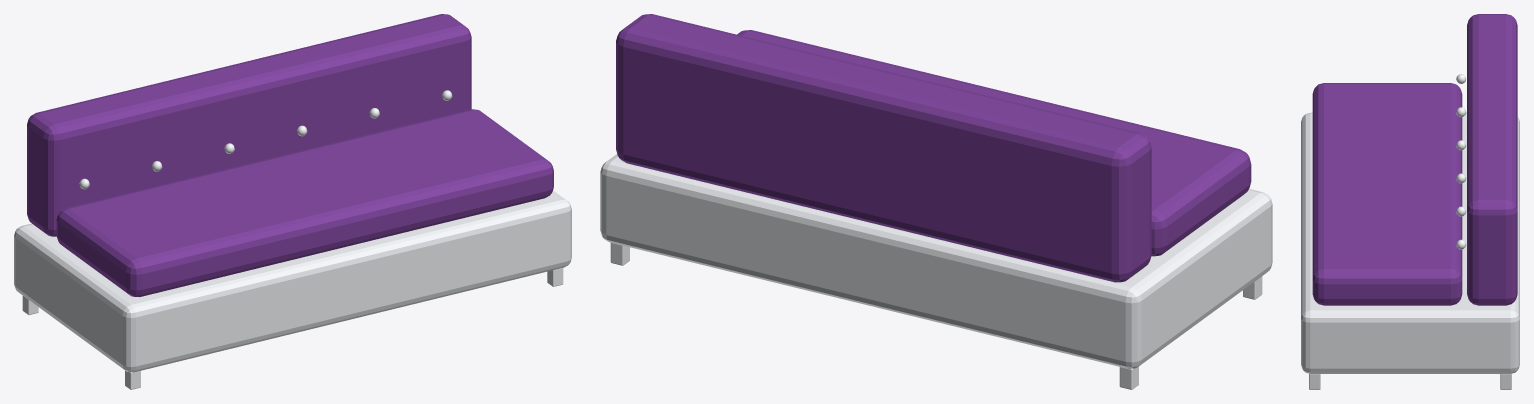
The model's file is sofa_tufted_chrome.glb.
3 renders of one model, left to right at view 1: azimuth 30°, elevation 25°; view 2: azimuth 150°, elevation 25°; view 3: azimuth 270°, elevation 25°, orthographic. The views are drawn at different scales.
Parts seen in each view (by area): view 1: GD_sofa_tufted_chrome__m1, GD_sofa_tufted_chrome__m0; view 2: GD_sofa_tufted_chrome__m1, GD_sofa_tufted_chrome__m0; view 3: GD_sofa_tufted_chrome__m1, GD_sofa_tufted_chrome__m0.
Part boxes in pixels (x1,y1,x2,y2): GD_sofa_tufted_chrome__m1: (27,14,553,297); GD_sofa_tufted_chrome__m0: (14,90,571,389); GD_sofa_tufted_chrome__m1: (616,14,1251,282); GD_sofa_tufted_chrome__m0: (600,154,1272,389); GD_sofa_tufted_chrome__m1: (1312,14,1517,305); GD_sofa_tufted_chrome__m0: (1301,74,1519,389).
Size of the model in its own units: 2.1 by 0.88 by 0.95.
